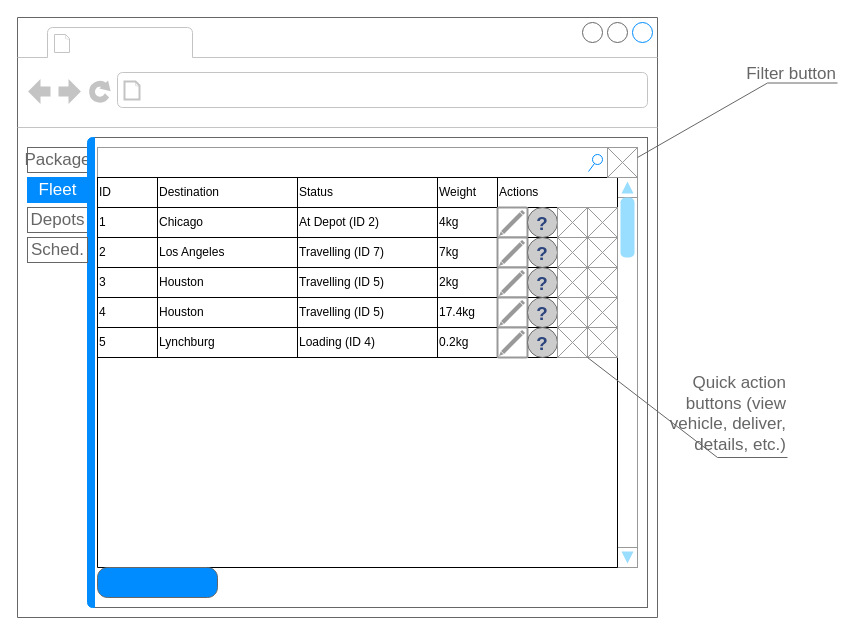
Some shapes in this 855 by 635 pixel diagram are drawn without their labels. The shapes that lost their labels are listed below. From the top down, each one's box as (x1, y1, x2, y2) in pixels, then its label:
(76, 28, 188, 56): Database
(146, 76, 398, 104): localhost
(96, 146, 608, 178): Search
(96, 566, 218, 598): New Package
